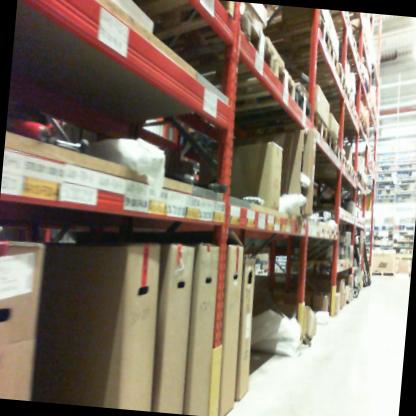pallet: (142, 2, 281, 90), (190, 47, 299, 123), (219, 82, 318, 144), (119, 0, 241, 42), (271, 11, 333, 58), (290, 55, 350, 93), (285, 44, 341, 82), (313, 117, 331, 150), (368, 267, 394, 282), (329, 136, 340, 156)
pallet_truck: (343, 226, 369, 306)
